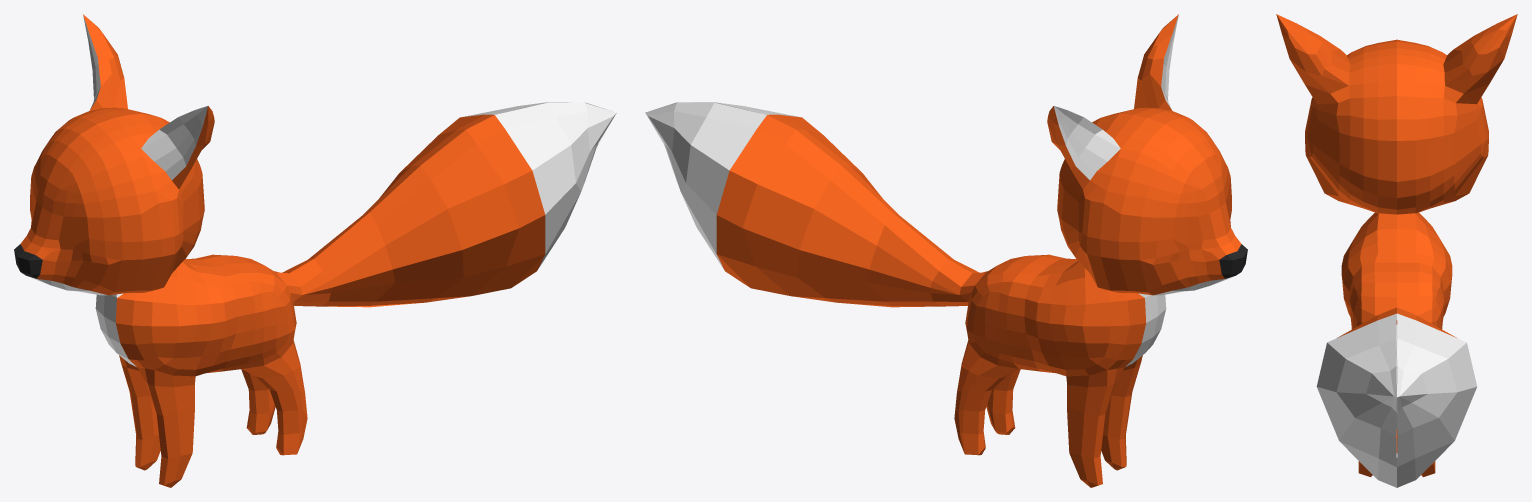
File: fox.fbx
The picture shows the model from 3 angles, left to right: view 1: azimuth 30°, elevation 25°; view 2: azimuth 150°, elevation 25°; view 3: azimuth 270°, elevation 25°; orthographic projection. The views are drawn at different scales.
Visible parts, largest first — view 1: Plane; view 2: Plane; view 3: Plane.
Part boxes in pixels (x1=…): Plane: x1=14, y1=14, x2=616, y2=487; Plane: x1=645, y1=14, x2=1247, y2=487; Plane: x1=1276, y1=14, x2=1517, y2=487.
Size of the model in its own units: 1.07 by 0.7223 by 0.3891.
